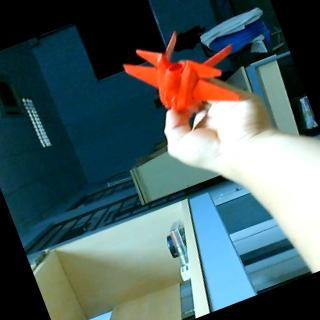Jet: (117, 12, 250, 135)
